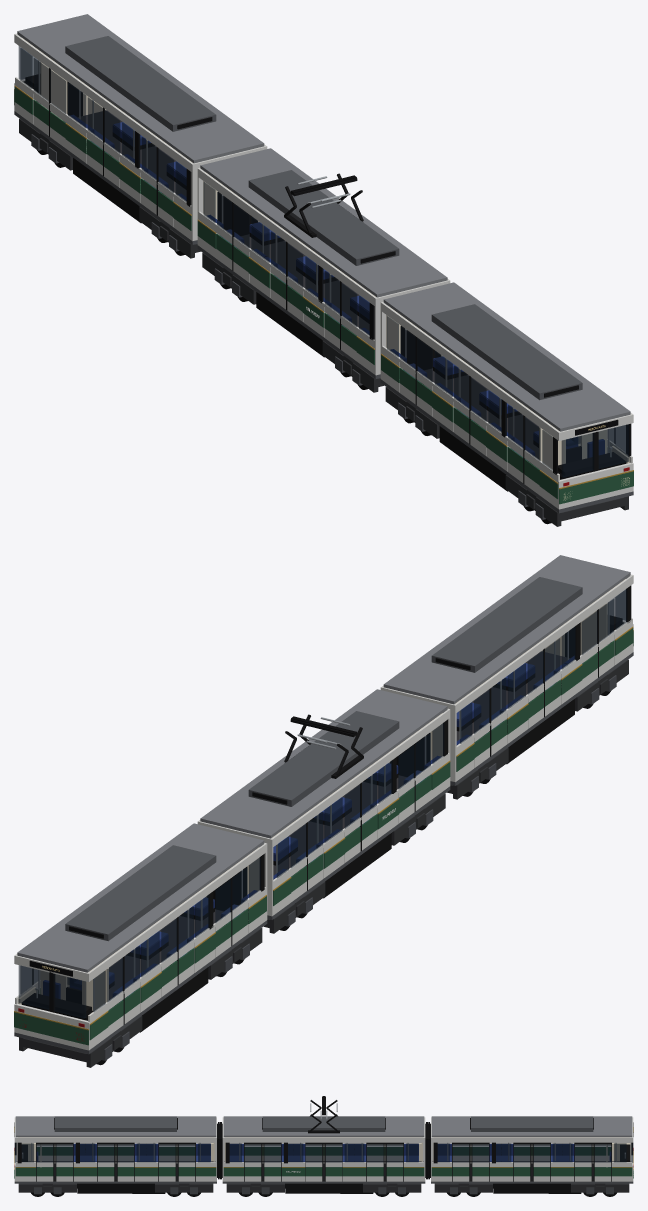
The model's file is krl.glb.
3 renders of one model, top to bottom at view 1: azimuth 30°, elevation 25°; view 2: azimuth 150°, elevation 25°; view 3: azimuth 270°, elevation 25°, orthographic. The views are drawn at different scales.
Visible parts, largest first — view 1: Tail_Roof, Head_Roof, Mid_Roof, Tail_ACBox, Head_ACBox, Mid_ACBox, Head_SideL_RailTop, Tail_SideL_RailTop, Mid_SideL_RailTop, Mid_Int_Floor, Head_Int_Floor, Tail_Int_Floor (+31 smaller); view 2: Head_Roof, Tail_Roof, Mid_Roof, Head_ACBox, Tail_ACBox, Mid_ACBox, Mid_Int_Floor, Tail_SideL_RailTop, Head_SideL_RailTop, Mid_SideL_RailTop, Tail_Int_Floor, Head_Int_Floor (+32 smaller); view 3: Head_Roof, Tail_Roof, Mid_Roof, Head_ACBox, Tail_ACBox, Mid_ACBox, Mid_SideR_RailTop, Head_SideR_RailTop, Tail_SideR_RailTop, Head_Underframe_0, Mid_Underframe_0, Tail_Underframe_0 (+115 smaller).
Part boxes in pixels (x1,y1,x2,y2): Tail_Roof: (17, 14, 264, 163); Head_Roof: (383, 282, 630, 431); Mid_Roof: (200, 148, 447, 297); Tail_ACBox: (65, 36, 216, 131); Head_ACBox: (431, 304, 582, 400); Mid_ACBox: (248, 170, 399, 265); Head_SideL_RailTop: (380, 302, 560, 440); Tail_SideL_RailTop: (14, 34, 193, 172); Mid_SideL_RailTop: (197, 169, 377, 305); Mid_Int_Floor: (241, 234, 369, 335); Head_Int_Floor: (424, 368, 538, 468); Tail_Int_Floor: (64, 110, 186, 201); Head_Roof: (383, 555, 630, 704); Tail_Roof: (17, 823, 264, 972); Mid_Roof: (200, 689, 447, 838); Head_ACBox: (431, 577, 582, 672); Tail_ACBox: (65, 845, 216, 941); Mid_ACBox: (248, 711, 399, 806); Mid_Int_Floor: (273, 775, 406, 876); Tail_SideL_RailTop: (87, 844, 267, 981); Head_SideL_RailTop: (454, 576, 633, 713); Mid_SideL_RailTop: (270, 709, 450, 847); Tail_Int_Floor: (109, 909, 223, 1009); Head_Int_Floor: (456, 651, 583, 742); Head_Roof: (15, 1116, 216, 1137); Tail_Roof: (431, 1116, 632, 1137); Mid_Roof: (223, 1116, 424, 1137); Head_ACBox: (54, 1116, 176, 1131); Tail_ACBox: (471, 1116, 593, 1131); Mid_ACBox: (262, 1116, 385, 1131); Mid_SideR_RailTop: (222, 1137, 425, 1142); Head_SideR_RailTop: (15, 1137, 216, 1142); Tail_SideR_RailTop: (431, 1137, 631, 1142); Head_Underframe_0: (77, 1183, 154, 1193); Mid_Underframe_0: (285, 1183, 362, 1193); Tail_Underframe_0: (493, 1183, 570, 1193).
Size of the model in its own units: 1.06 by 1.96 by 13.17.
